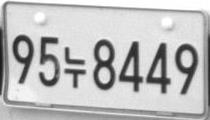4: (145, 42, 171, 93), (119, 40, 144, 93)
5: (37, 35, 61, 87)
8: (92, 37, 116, 91)
9: (174, 42, 199, 95), (11, 33, 35, 84)
누: (63, 46, 87, 88)
